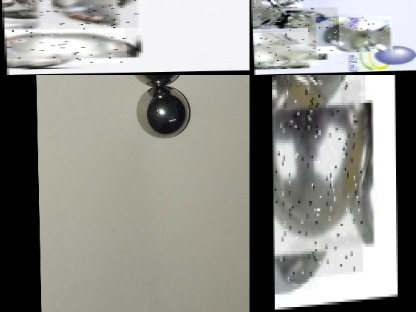ironball: (270, 82, 361, 282), (1, 22, 123, 65), (18, 0, 135, 29), (133, 85, 192, 138), (313, 13, 390, 53), (259, 7, 337, 45), (250, 31, 316, 66), (249, 3, 289, 25), (266, 0, 300, 8)
